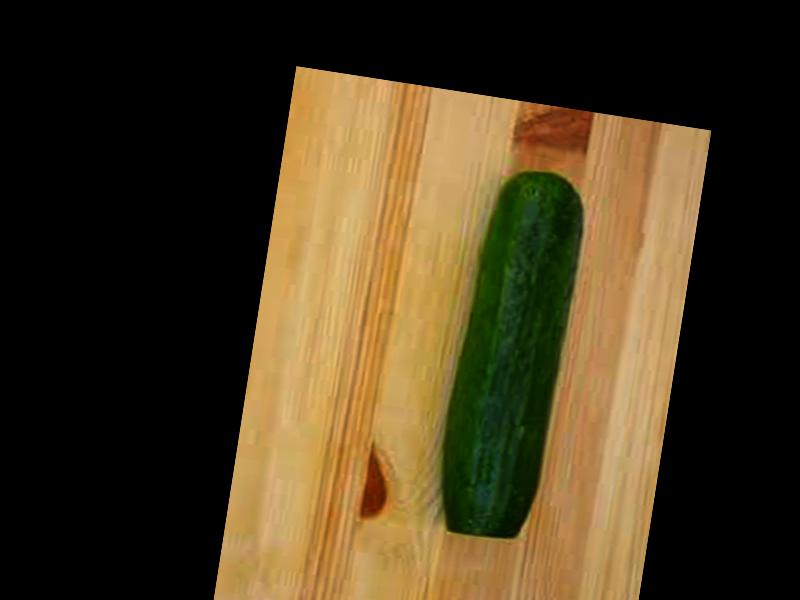Cucumber: (434, 163, 589, 542)
